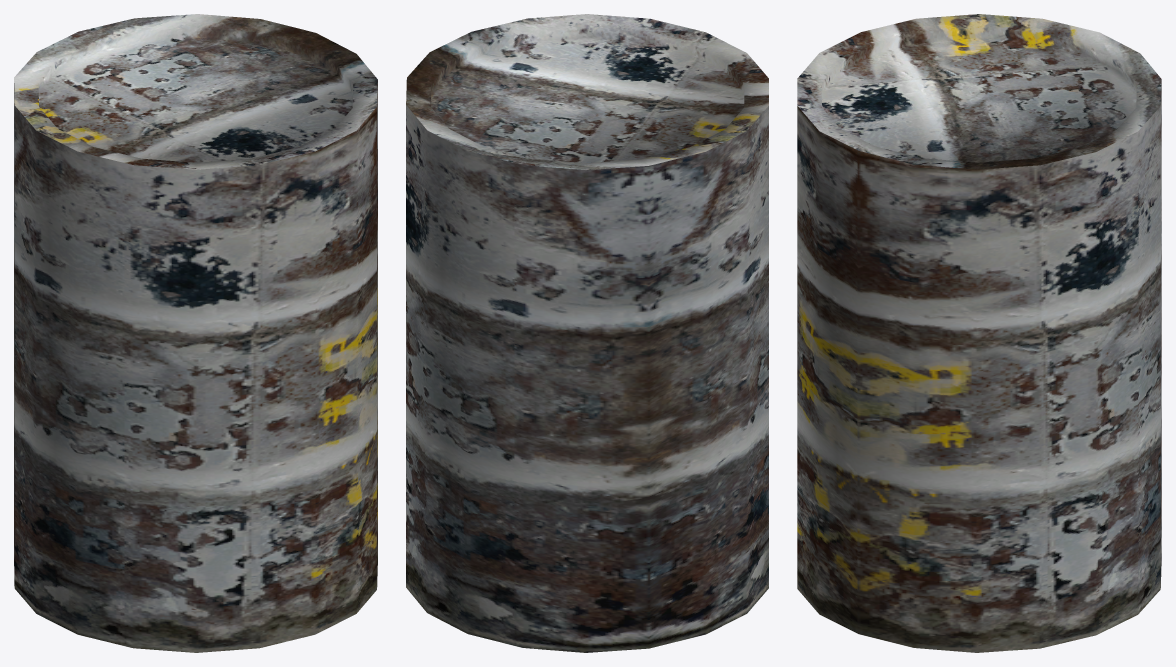
Rendered from worn_container.obj.
3 views of the same model, side by side, from view 1: azimuth 30°, elevation 25°; view 2: azimuth 150°, elevation 25°; view 3: azimuth 270°, elevation 25° (orthographic).
Visible parts, largest first — view 1: worn_container; view 2: worn_container; view 3: worn_container.
Boxes of the visible parts, x1,y1,x2,y2 form: worn_container: (14,14,377,652); worn_container: (406,14,768,652); worn_container: (797,14,1161,652).
Bounding box in the file's own units: 25.37 × 36.72 × 25.08.
1 material, 1 textured.
